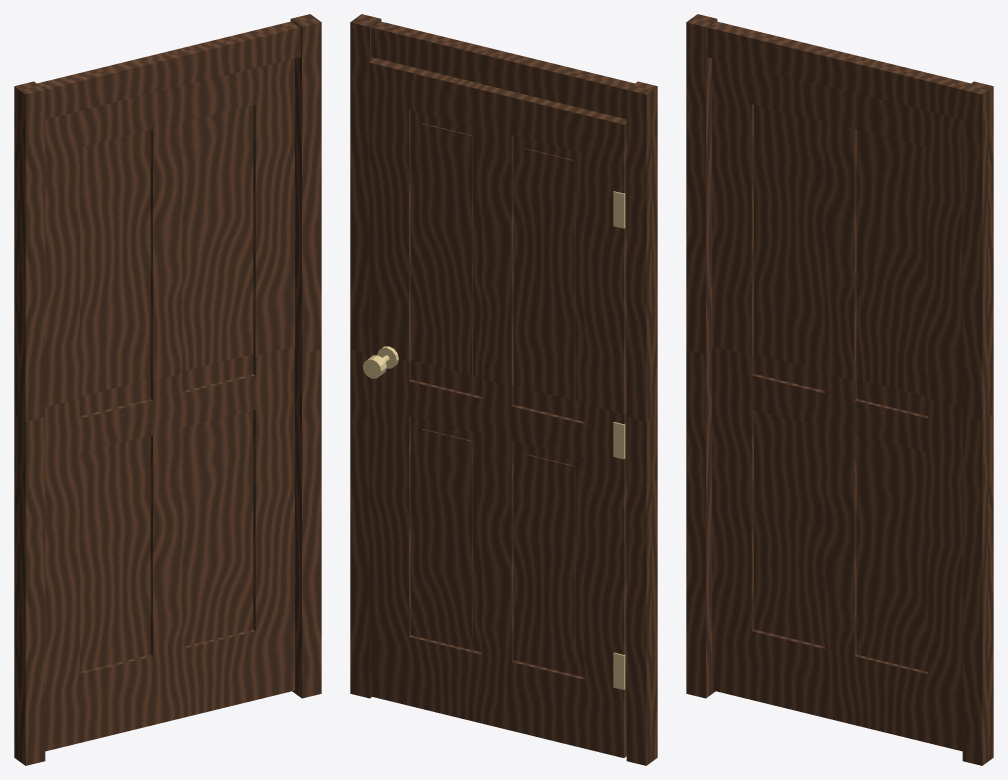
Rendered from X14_PART_Door_Wood_090.glb.
3 renders of one model, left to right at view 1: azimuth 30°, elevation 25°; view 2: azimuth 150°, elevation 25°; view 3: azimuth 330°, elevation 25°, orthographic.
Parts seen in each view (by area): view 1: X14_PART_Door_Wood_090_Leaf_LOD0, X14_PART_Door_Wood_090_LOD0; view 2: X14_PART_Door_Wood_090_Leaf_LOD0, X14_PART_Door_Wood_090_LOD0; view 3: X14_PART_Door_Wood_090_Leaf_LOD0, X14_PART_Door_Wood_090_LOD0.
Boxes of the visible parts, box(x1,y1,x2,y2) form: X14_PART_Door_Wood_090_Leaf_LOD0: box(45, 58, 294, 751); X14_PART_Door_Wood_090_LOD0: box(14, 14, 321, 765); X14_PART_Door_Wood_090_Leaf_LOD0: box(363, 58, 626, 757); X14_PART_Door_Wood_090_LOD0: box(350, 14, 657, 765); X14_PART_Door_Wood_090_Leaf_LOD0: box(712, 58, 962, 751); X14_PART_Door_Wood_090_LOD0: box(686, 14, 993, 765).
Size of what is drawn, in the model's own units: 0.9 by 1.95 by 0.16.
Materials: 2 (1 with a texture image).
